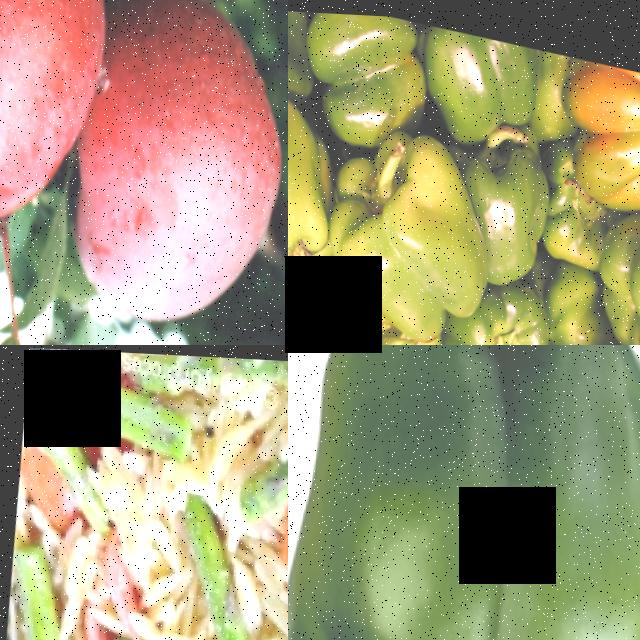apple: (41, 0, 288, 345), (0, 0, 141, 243)
asparagus: (261, 400, 288, 510)
bell pepper: (288, 345, 640, 640), (313, 156, 488, 337), (295, 9, 422, 136), (456, 125, 552, 258), (556, 50, 640, 188), (573, 194, 640, 345), (288, 87, 333, 262), (453, 278, 551, 345)
